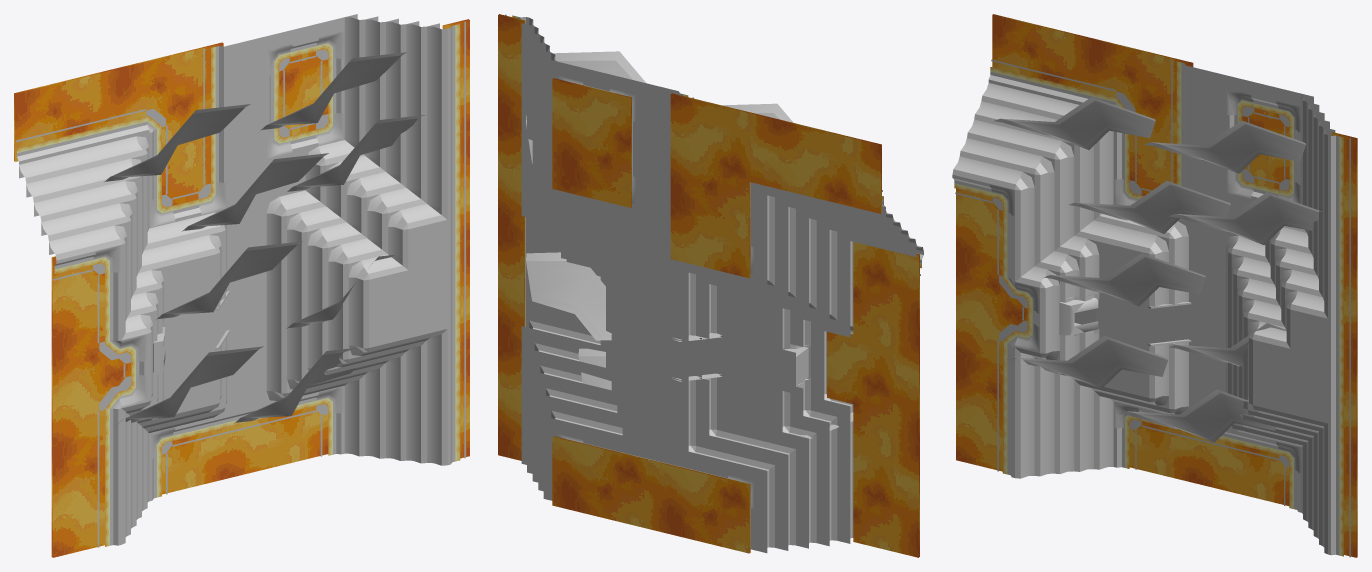
Rendered from Mount-Undara-2_03_01.obj.
The picture shows the model from 3 angles, left to right: view 1: azimuth 30°, elevation 25°; view 2: azimuth 150°, elevation 25°; view 3: azimuth 330°, elevation 25°; orthographic projection. The views are drawn at different scales.
Parts seen in each view (by area): view 1: map; view 2: map; view 3: map.
Part boxes in pixels (box(x1,y1,x2,y2)): map: box(14, 14, 469, 557); map: box(498, 14, 923, 557); map: box(952, 14, 1357, 557).
Size of the model in its own units: 32 by 32 by 5.9.
